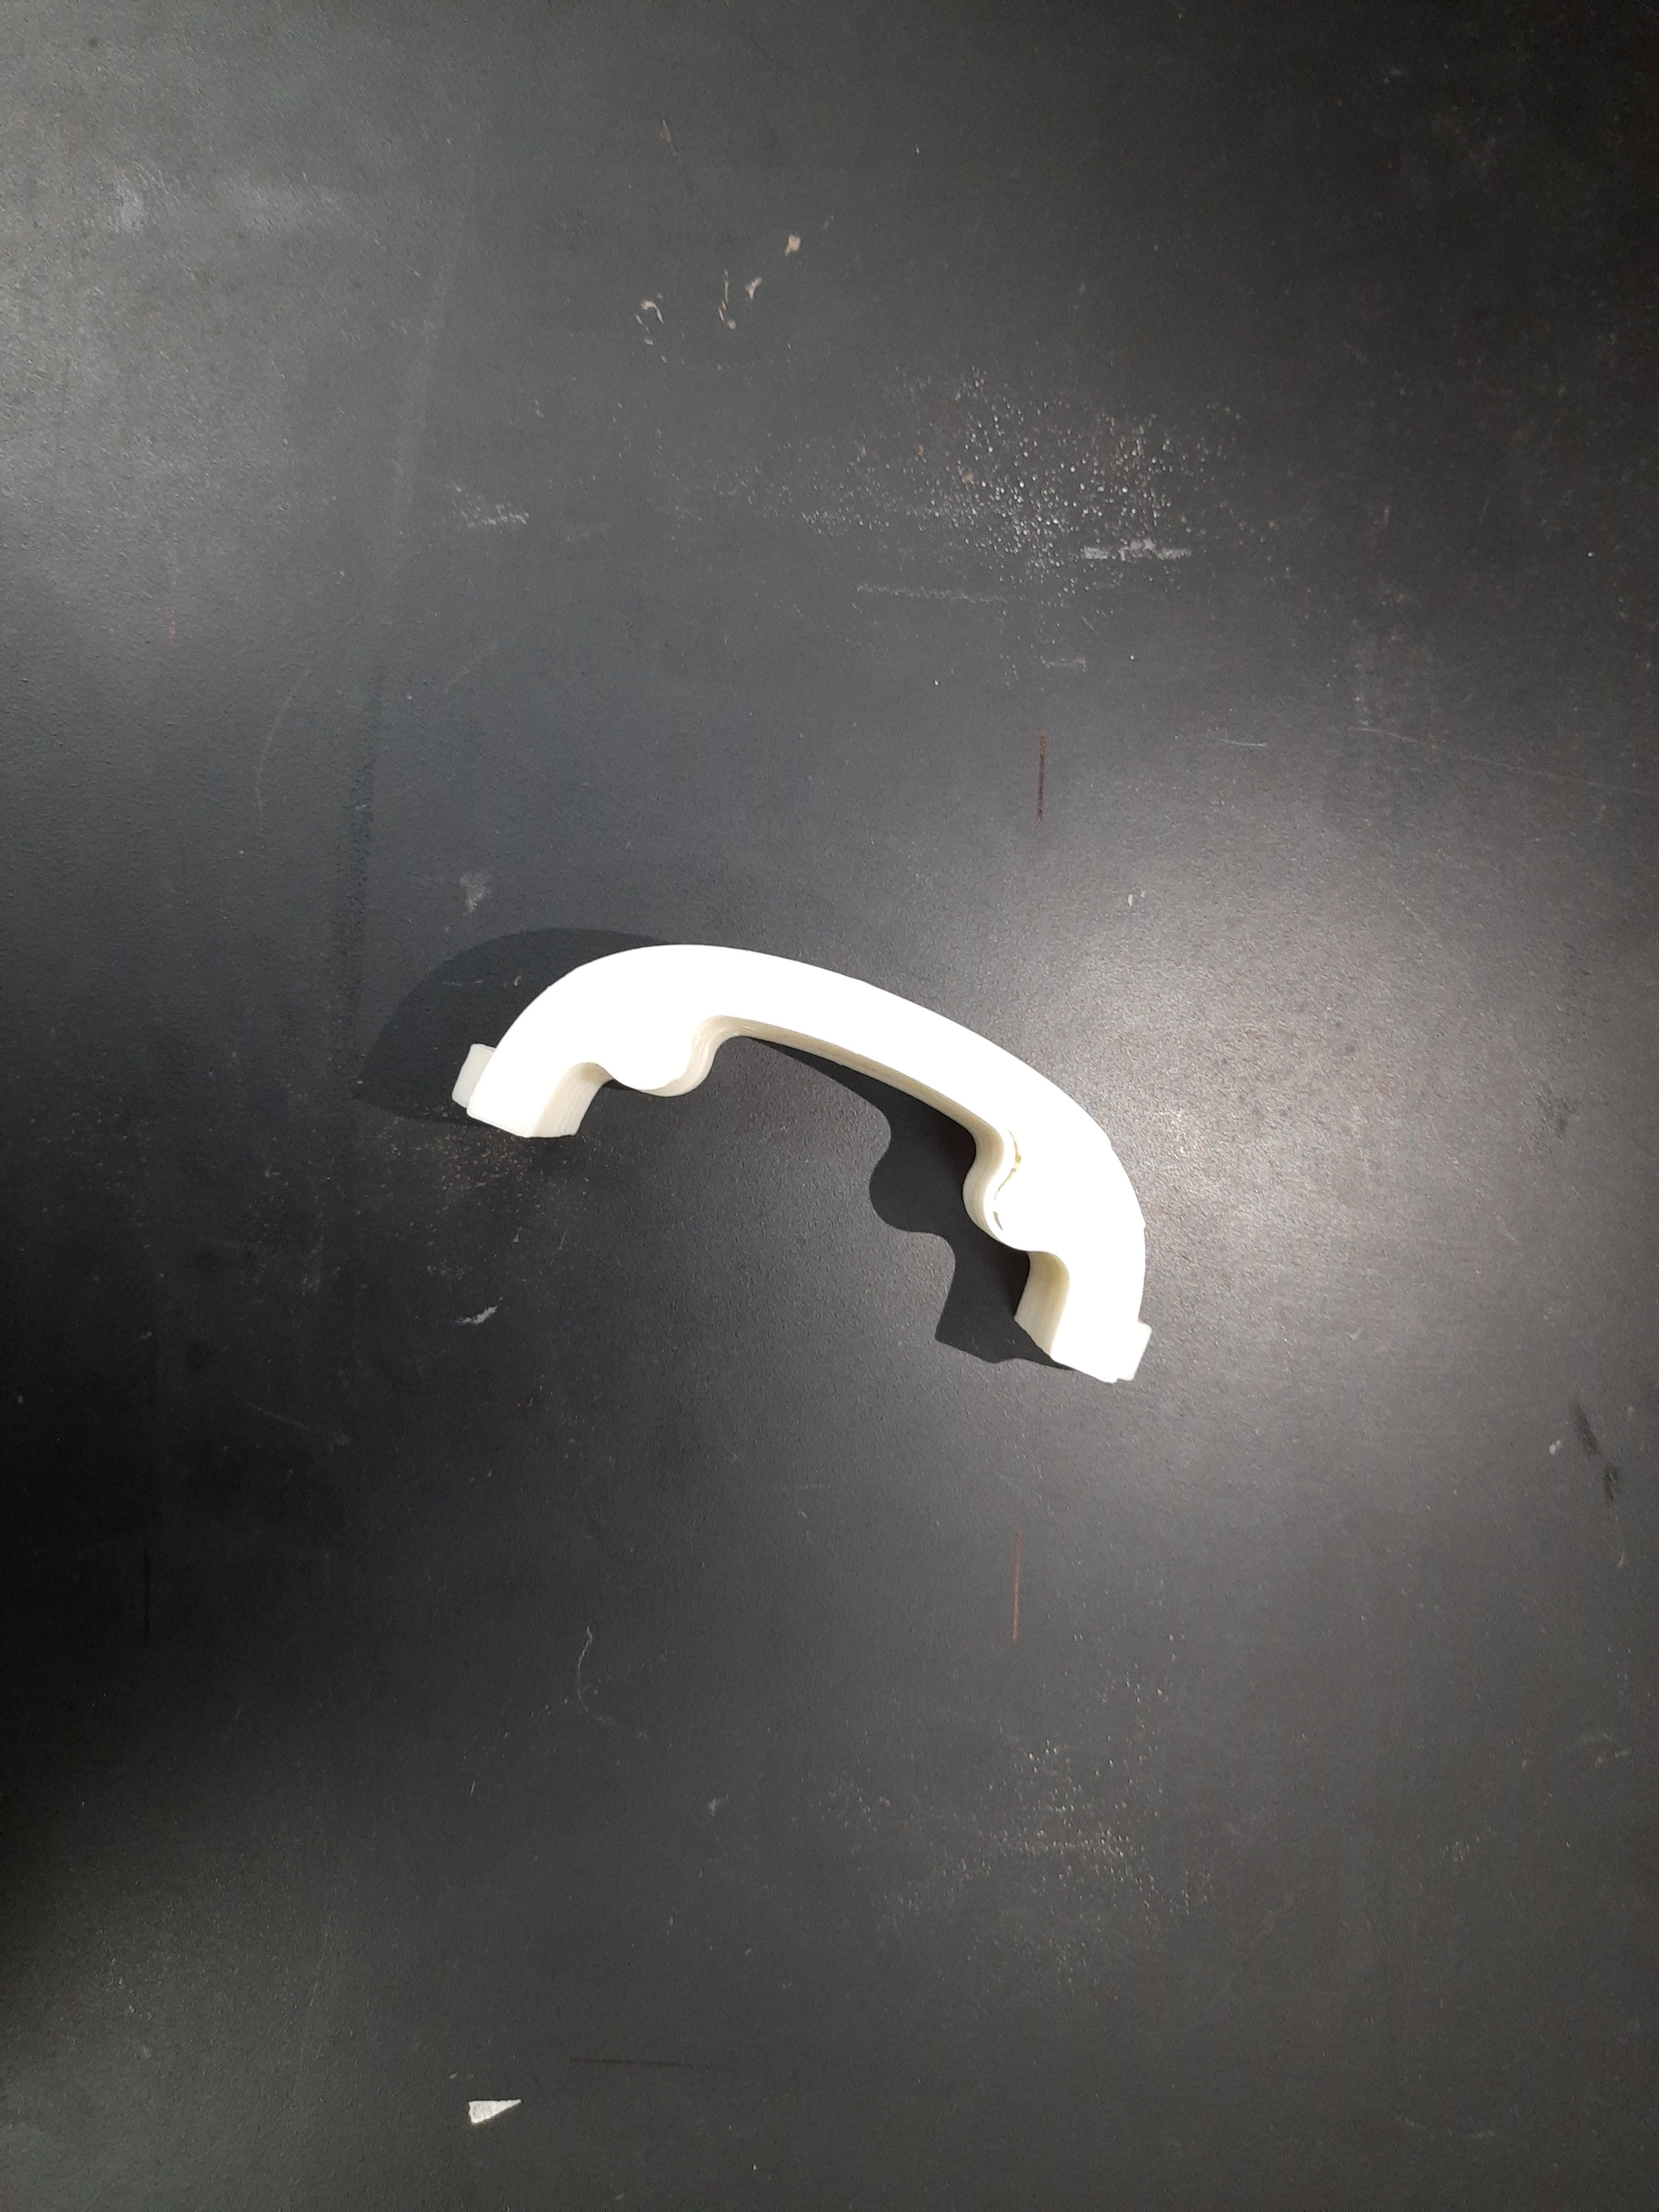ARC: (430, 838, 1246, 1400)
